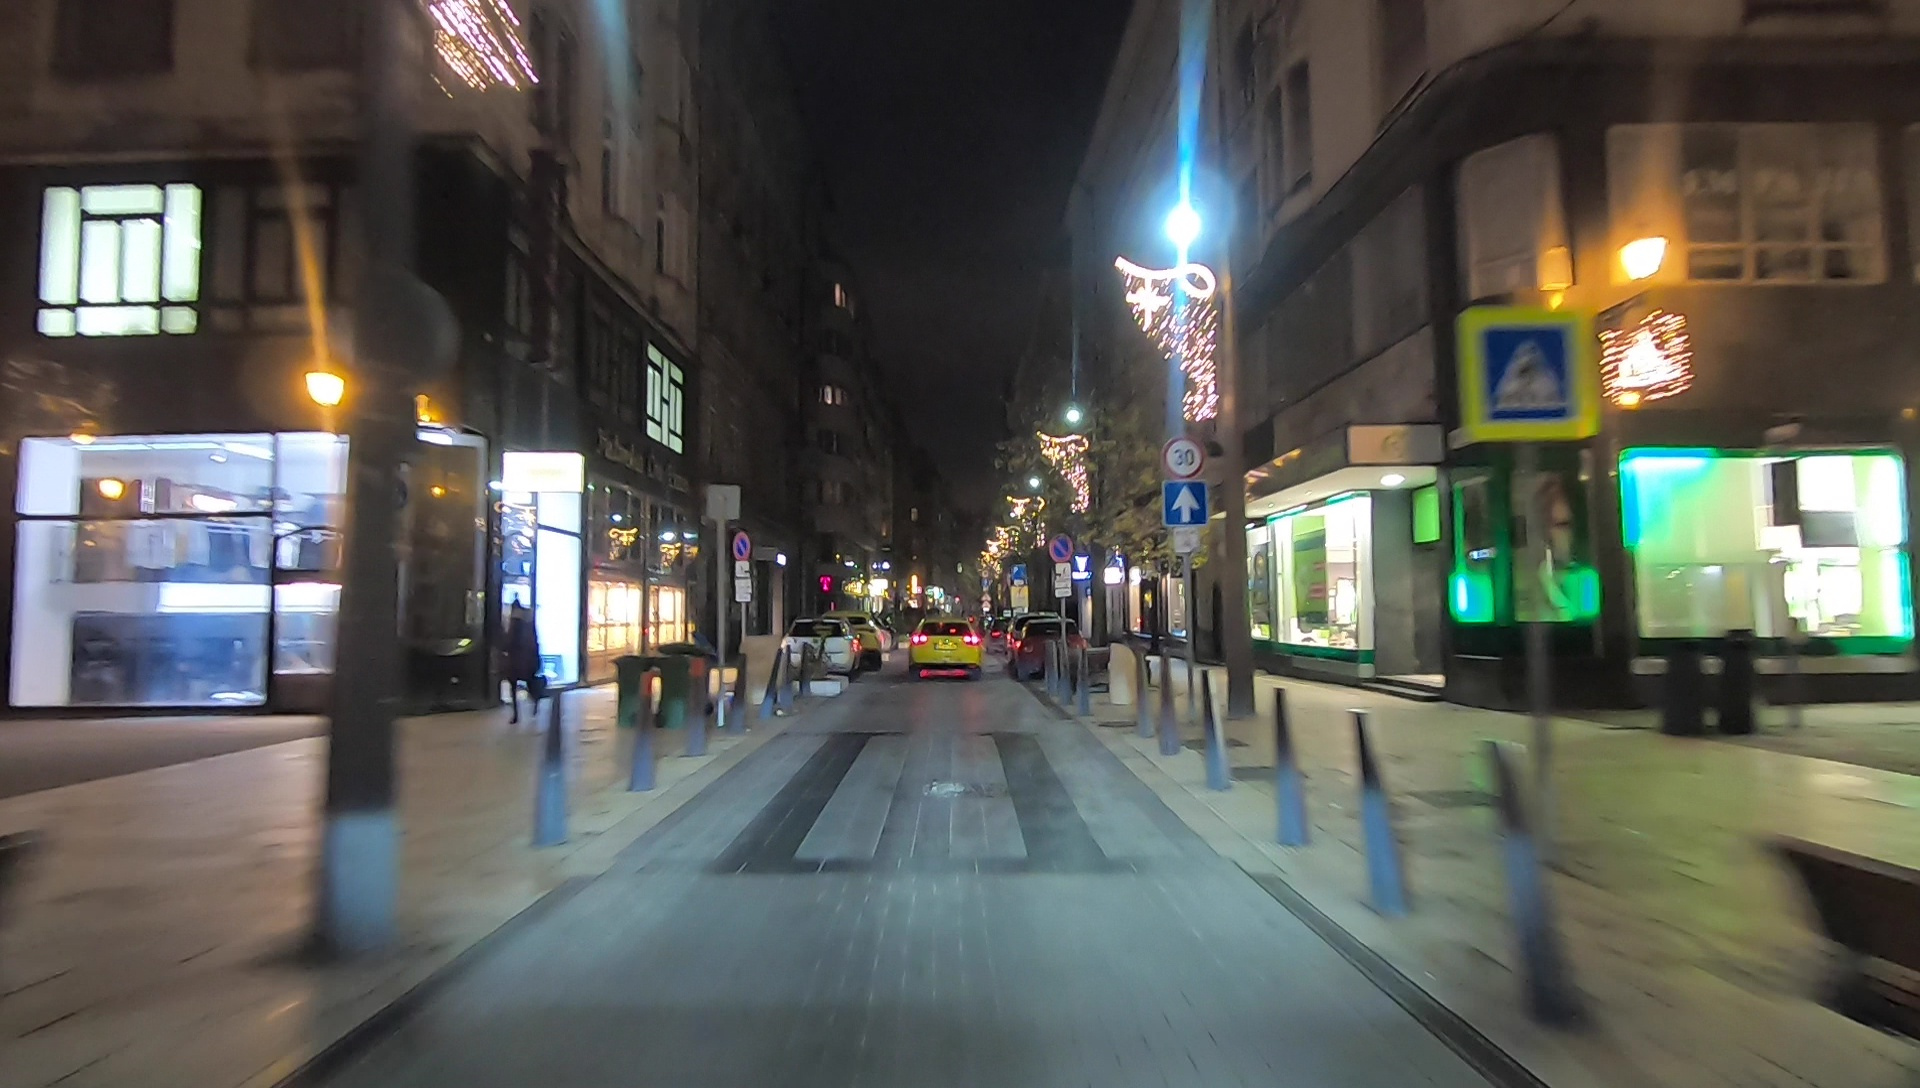person: (499, 597, 551, 723)
